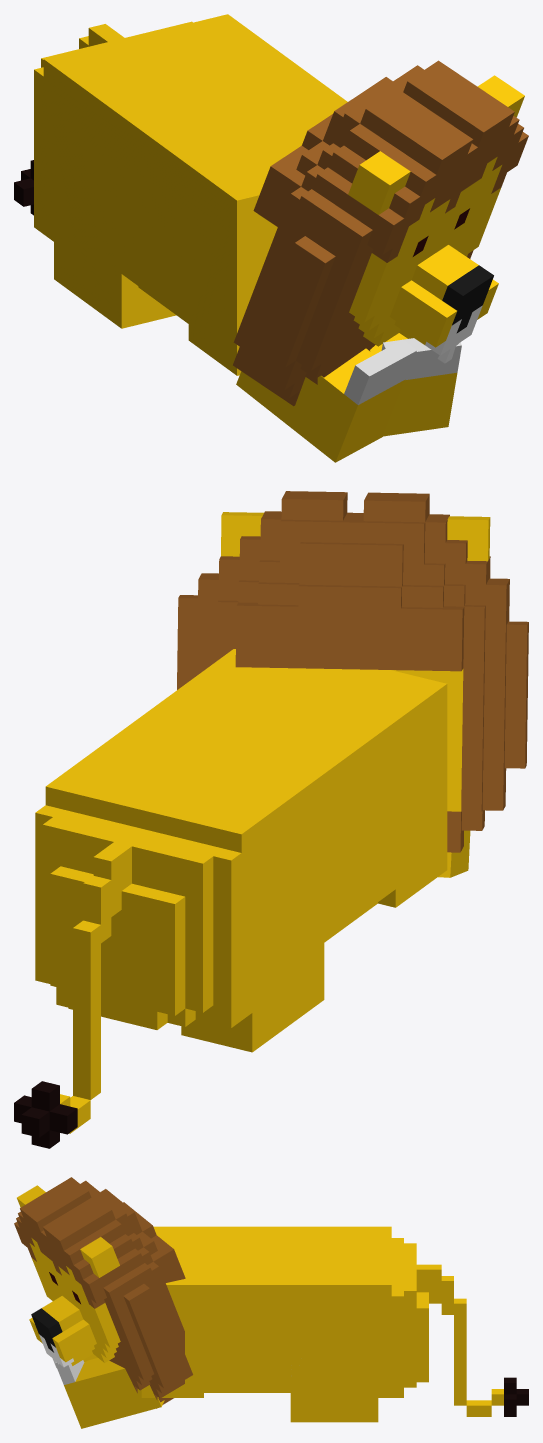
Rendered from Lion-sleep.fbx.
The picture shows the model from 3 angles, top to bottom: view 1: azimuth 30°, elevation 25°; view 2: azimuth 150°, elevation 25°; view 3: azimuth 270°, elevation 25°; orthographic projection. The views are drawn at different scales.
Parts seen in each view (by area): view 1: Body, Head, Right Front Leg, RIght Back leg, Left Front Leg; view 2: Body, Head, RIght Back leg; view 3: Body, Head, Left Front Leg, Left Back Leg.
Boxes of the visible parts, x1=… form: Body: x1=14, y1=14, x2=347, y2=375; Head: x1=233, y1=60, x2=528, y2=406; Right Front Leg: x1=236, y1=339, x2=416, y2=462; RIght Back leg: x1=54, y1=238, x2=176, y2=328; Left Front Leg: x1=369, y1=333, x2=461, y2=436; Body: x1=14, y1=649, x2=447, y2=1148; Head: x1=177, y1=491, x2=528, y2=852; RIght Back leg: x1=181, y1=942, x2=324, y2=1052; Body: x1=141, y1=1226, x2=528, y2=1416; Head: x1=14, y1=1177, x2=192, y2=1408; Left Front Leg: x1=55, y1=1358, x2=164, y2=1428; Left Back Leg: x1=290, y1=1377, x2=378, y2=1422.
Bounding box in the file's own units: 172 × 205 × 412.
1 material, 1 textured.
